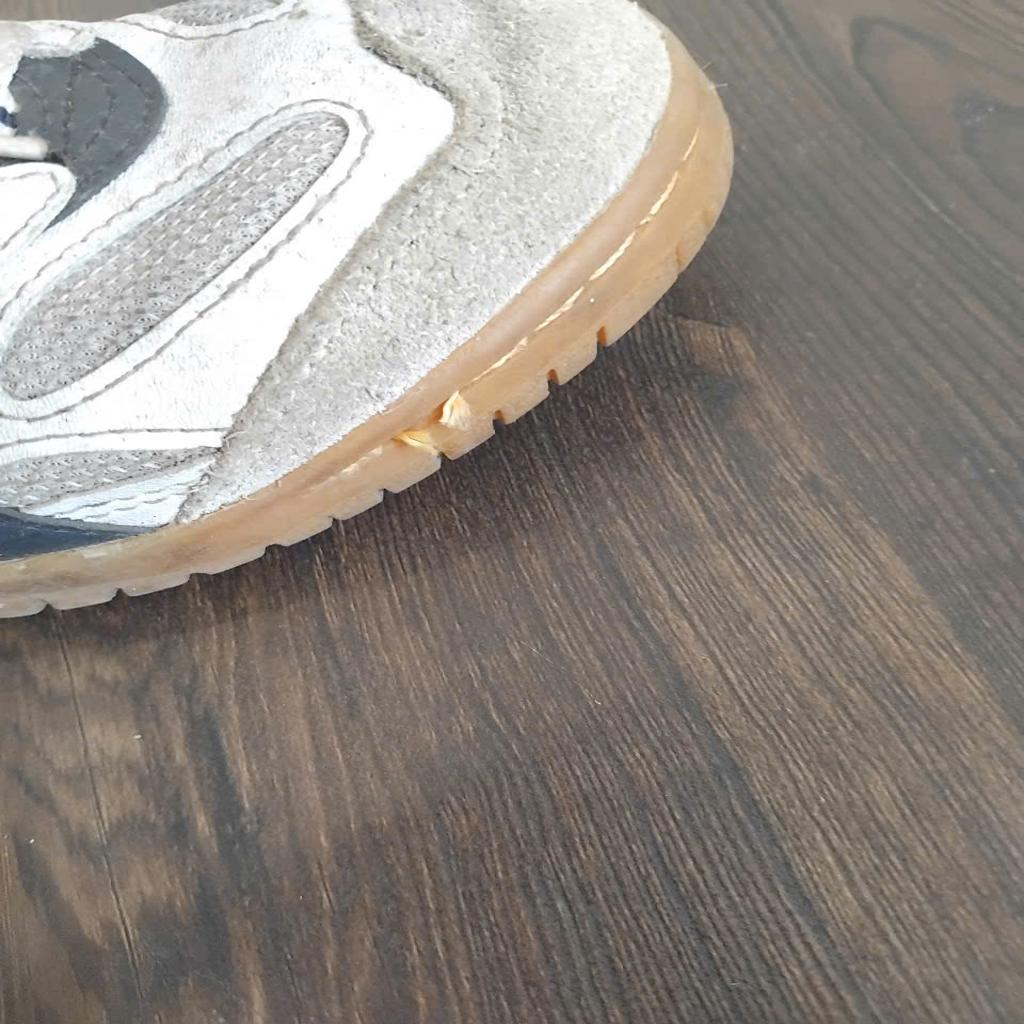broken: (391, 387, 476, 456)
